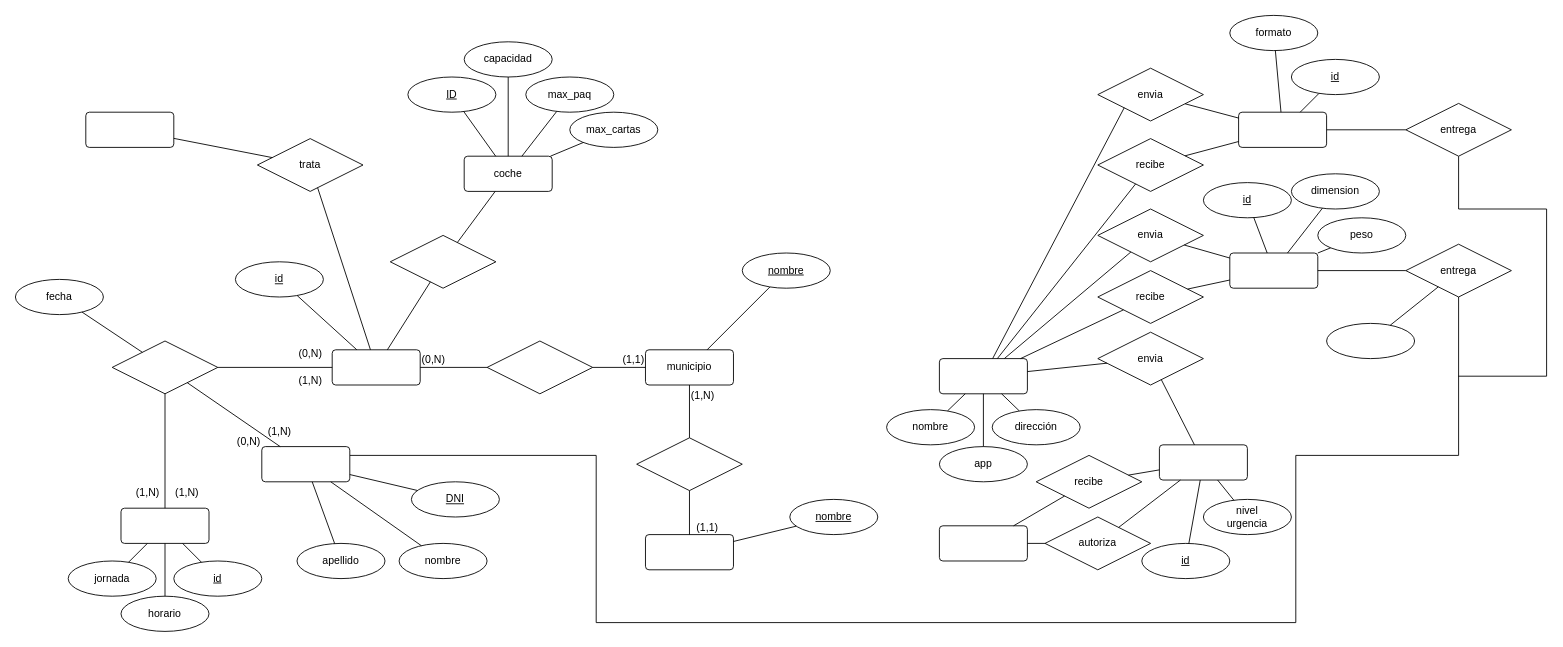
The diagram is 1563 pixels wide and 647 high, and some of its shapes have lost their labels. The centre of each missing label's shape, as x and y in pixels:
"carta" goes at (x=1282, y=129).
"carta certificada" goes at (x=1203, y=462).
"cartero" goes at (x=305, y=464).
"Centro Clasificación" goes at (x=129, y=129).
"comentario" goes at (x=1370, y=341).
"está" goes at (x=689, y=464).
"oficina" goes at (x=375, y=367).
"paquete" goes at (x=1273, y=270).
"pertenece" goes at (x=539, y=367).
"provincia" goes at (x=689, y=552).
"tiene" goes at (x=442, y=261).
"trabaja" goes at (x=164, y=367).
"turno" goes at (x=164, y=525).
"usuario" goes at (x=983, y=376).
"usuario loggeado" goes at (x=983, y=543).
